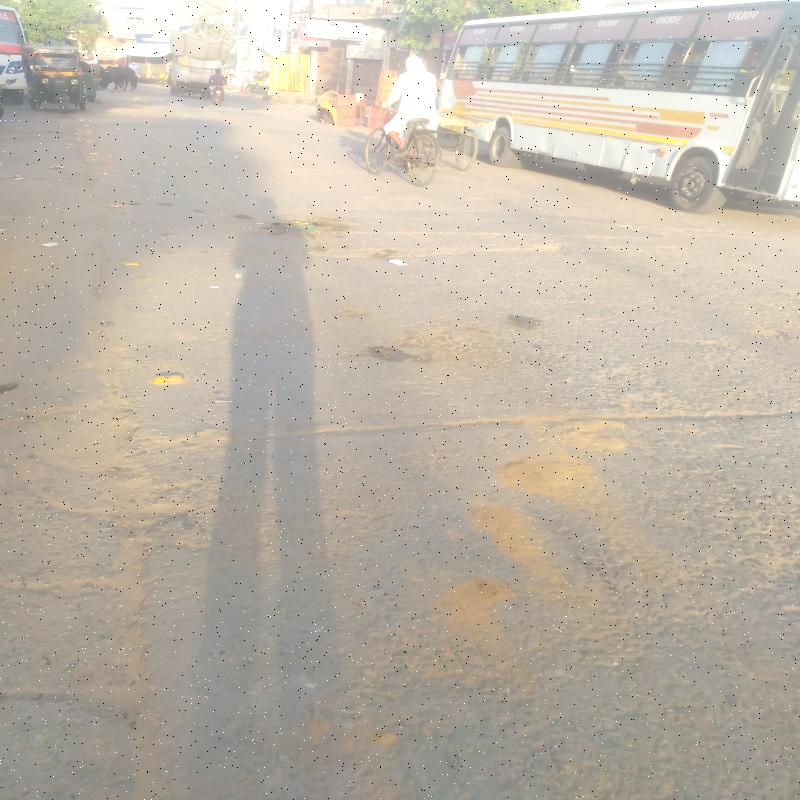bus: (448, 0, 794, 208)
